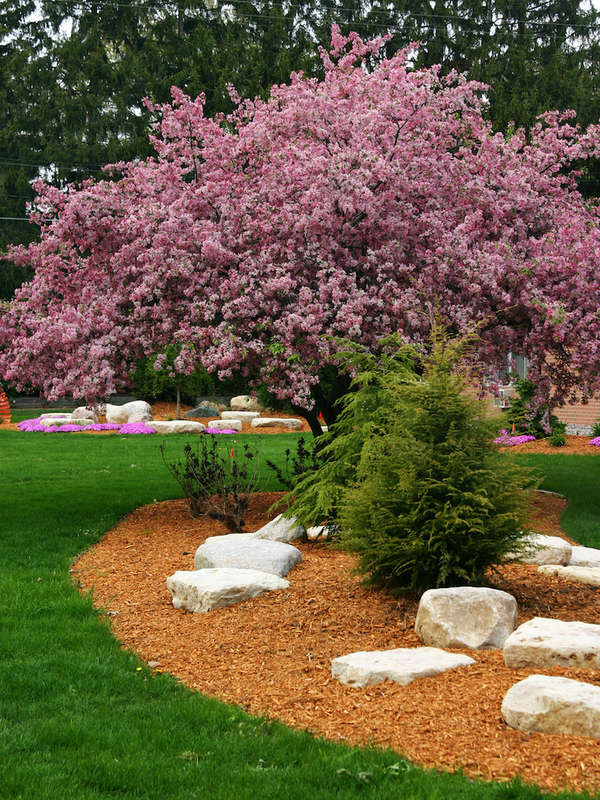bush: (300, 343, 527, 596)
tree: (13, 49, 596, 493)
